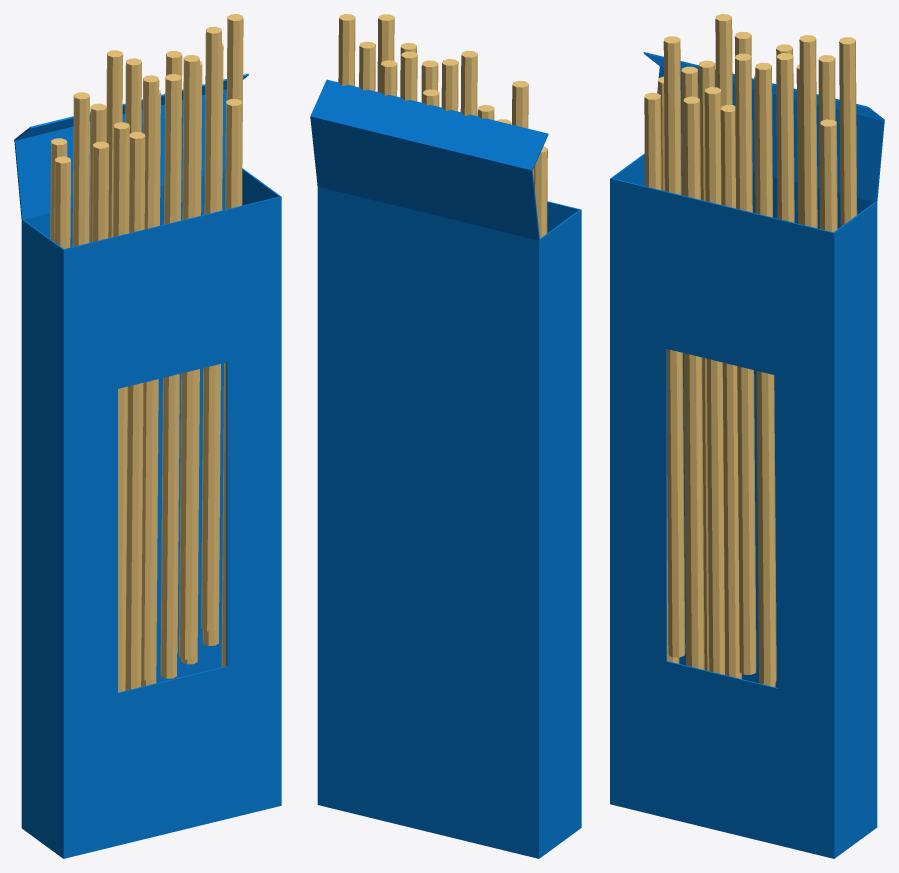
Rendered from noodles.obj.
3 renders of one model, left to right at view 1: azimuth 30°, elevation 25°; view 2: azimuth 150°, elevation 25°; view 3: azimuth 330°, elevation 25°, orthographic. The views are drawn at different scales.
Visible parts, largest first — view 1: Box001, Cylinder012, Cylinder018, Cylinder011, Cylinder017, Cylinder013, Cylinder016, Box002, Cylinder019, Cylinder014, Cylinder002, Cylinder015 (+10 smaller); view 2: Box001, Box002, Box003, Cylinder008, Cylinder002, Cylinder020, Cylinder018, Cylinder003, Cylinder005, Cylinder007, Cylinder014, Cylinder006 (+1 smaller); view 3: Box001, Cylinder013, Cylinder011, Cylinder014, Cylinder015, Cylinder016, Cylinder017, Box002, Cylinder018, Cylinder008, Cylinder012, Cylinder001 (+9 smaller).
Boxes of the visible parts, x1,y1,x2,y2 form: Box001: [21, 168, 281, 858]; Cylinder012: [179, 55, 199, 659]; Cylinder018: [201, 26, 221, 631]; Cylinder011: [160, 74, 181, 678]; Cylinder017: [125, 132, 145, 690]; Cylinder013: [141, 75, 159, 680]; Cylinder016: [112, 122, 129, 692]; Box002: [14, 89, 226, 219]; Cylinder019: [221, 99, 242, 666]; Cylinder014: [72, 92, 89, 246]; Cylinder002: [106, 50, 123, 237]; Cylinder015: [92, 141, 109, 241]; Box001: [317, 187, 581, 858]; Box002: [310, 116, 539, 240]; Box003: [310, 79, 548, 170]; Cylinder008: [338, 14, 355, 86]; Cylinder002: [460, 50, 477, 115]; Cylinder020: [534, 146, 547, 238]; Cylinder018: [377, 14, 394, 92]; Cylinder003: [441, 59, 458, 111]; Cylinder005: [401, 51, 417, 101]; Cylinder007: [359, 41, 375, 91]; Cylinder014: [512, 80, 528, 128]; Cylinder006: [380, 60, 397, 96]; Box001: [610, 153, 877, 858]; Cylinder013: [735, 53, 756, 674]; Cylinder011: [755, 62, 776, 684]; Cylinder014: [663, 36, 685, 657]; Cylinder015: [683, 96, 704, 669]; Cylinder016: [704, 87, 724, 674]; Cylinder017: [720, 105, 741, 678]; Box002: [657, 66, 884, 202]; Cylinder018: [799, 35, 817, 228]; Cylinder008: [839, 37, 857, 226]; Cylinder012: [776, 53, 794, 222]; Cylinder001: [698, 60, 715, 670].
Size of the model in its own units: 3 by 10.14 by 1.17.
